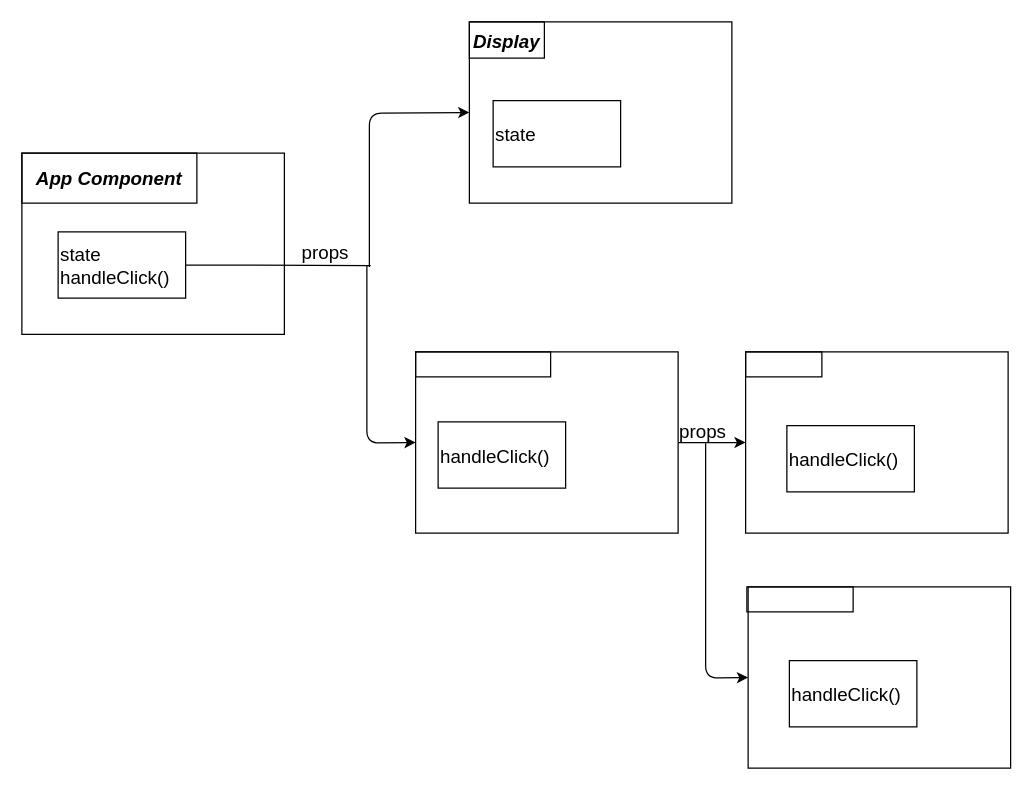
Image size: 1033x790. Some labels were removed from this diagram. Each missing label, with the centre of its shape:
"Button" belongs at (783,364).
"Button ..20" belongs at (799,599).
"ButtonPanel" belongs at (482,364).
